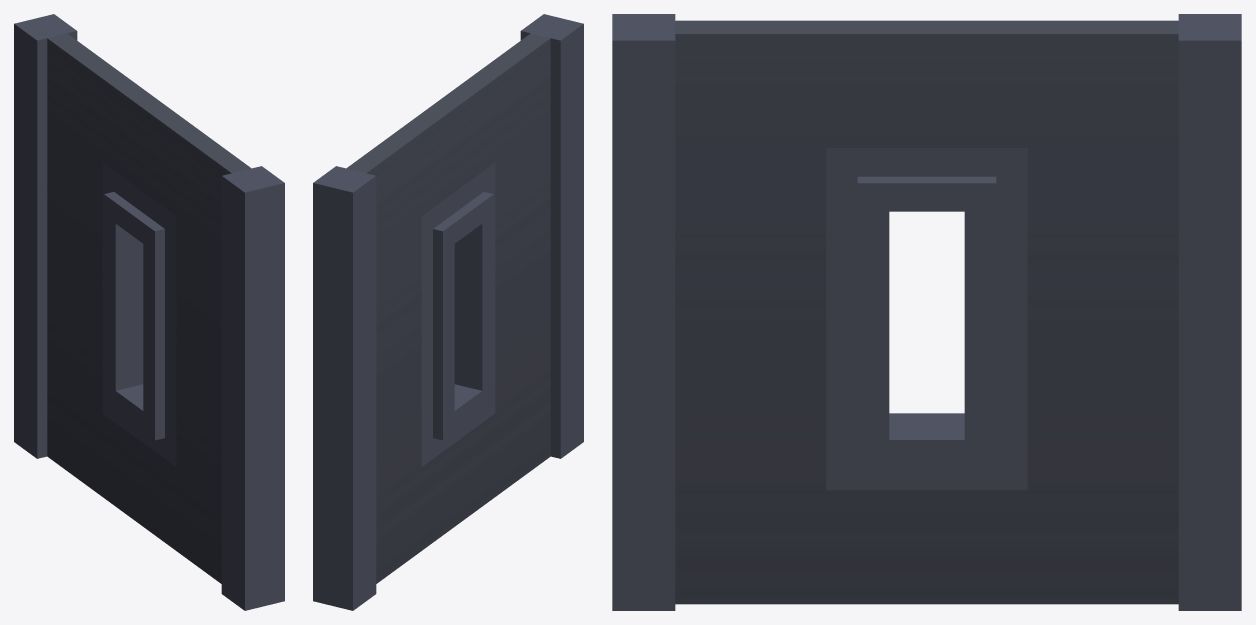
Rendered from wall-window-small.glb.
3 renders of one model, left to right at view 1: azimuth 30°, elevation 25°; view 2: azimuth 150°, elevation 25°; view 3: azimuth 270°, elevation 25°, orthographic. The views are drawn at different scales.
Visible parts, largest first — view 1: wall-window-small; view 2: wall-window-small; view 3: wall-window-small.
Boxes of the visible parts, x1=… form: wall-window-small: x1=14, y1=14, x2=284, y2=610; wall-window-small: x1=313, y1=14, x2=583, y2=610; wall-window-small: x1=612, y1=14, x2=1241, y2=610.
Size of the model in its own units: 0.1 by 1 by 1.
1 material, 1 textured.
